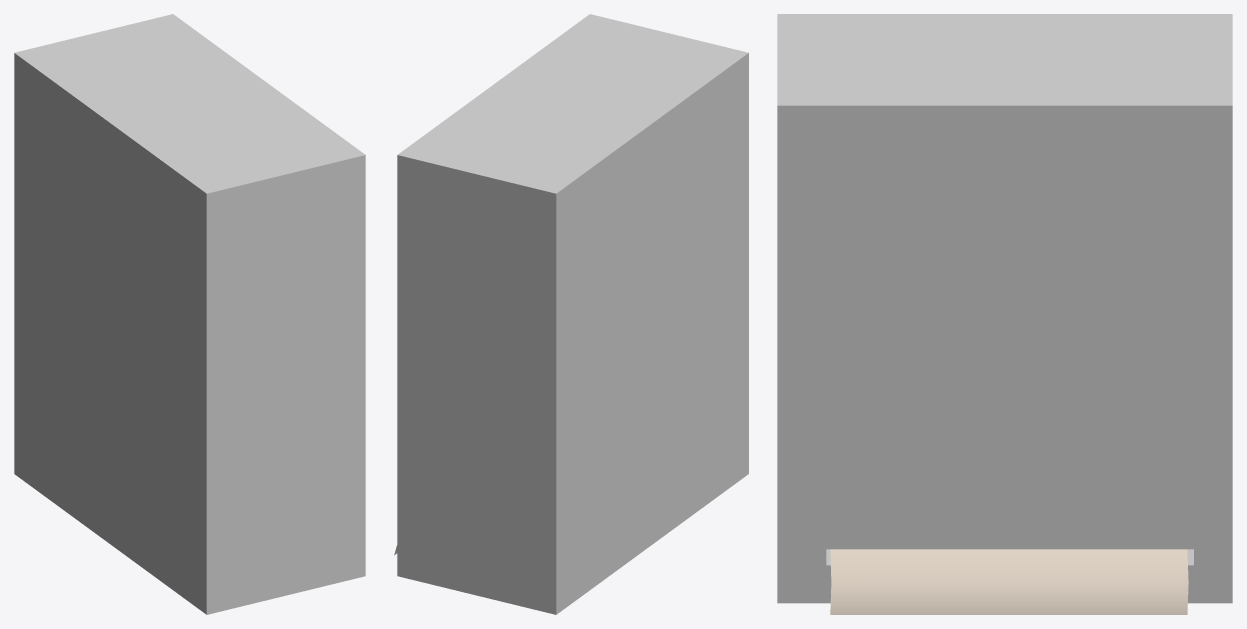
File: Paper_dispenser.fbx
The picture shows the model from 3 angles, left to right: view 1: azimuth 30°, elevation 25°; view 2: azimuth 150°, elevation 25°; view 3: azimuth 270°, elevation 25°; orthographic projection. The views are drawn at different scales.
Parts seen in each view (by area): view 1: pCube1; view 2: pCube1; view 3: pCube1, pPlane1.
Part boxes in pixels (box(x1,y1,x2,y2)): pCube1: box(14, 14, 365, 614); pCube1: box(397, 14, 748, 614); pCube1: box(777, 14, 1232, 603); pPlane1: box(830, 549, 1188, 614).
Bounding box in the file's own units: 7.73 × 17.16 × 14.23.
